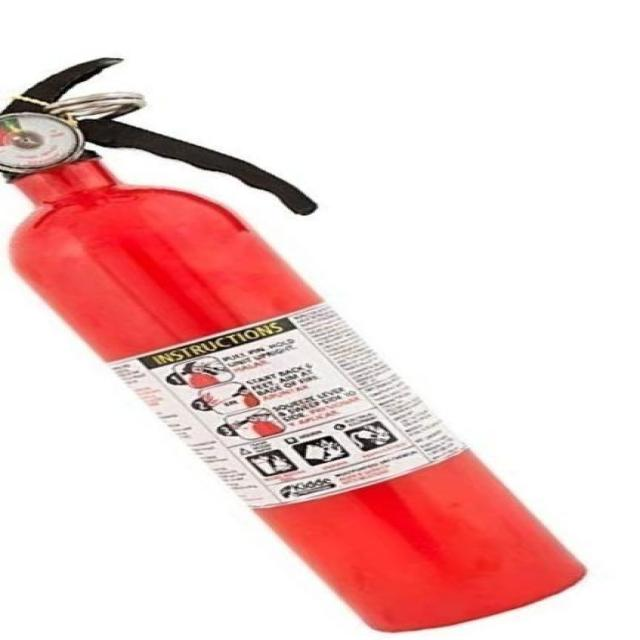fire_extinguisher: (0, 55, 596, 638)
